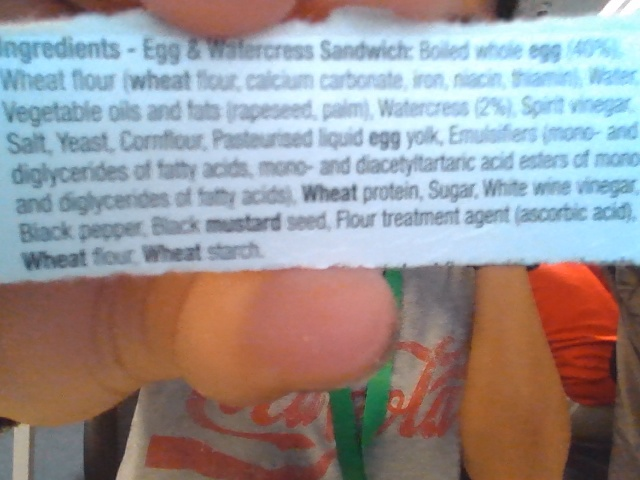egg: (142, 33, 179, 69), (364, 126, 405, 153)
wheat: (300, 184, 362, 203)
